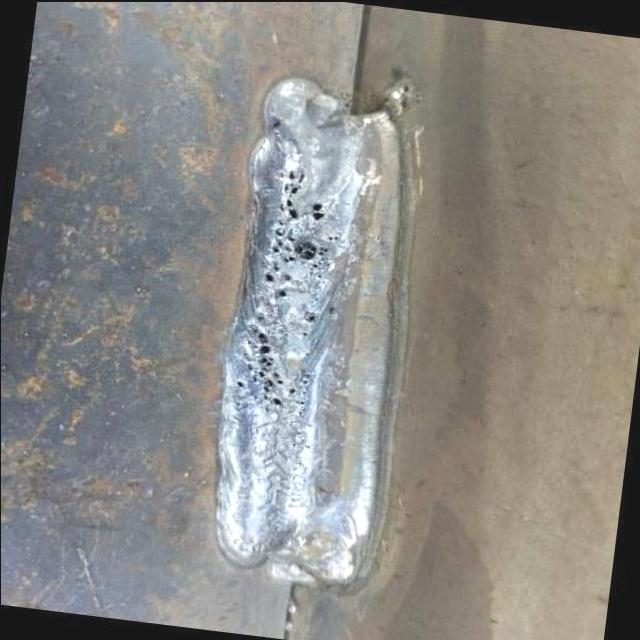defect: (259, 161, 339, 301), (232, 320, 302, 412), (298, 308, 320, 329)
